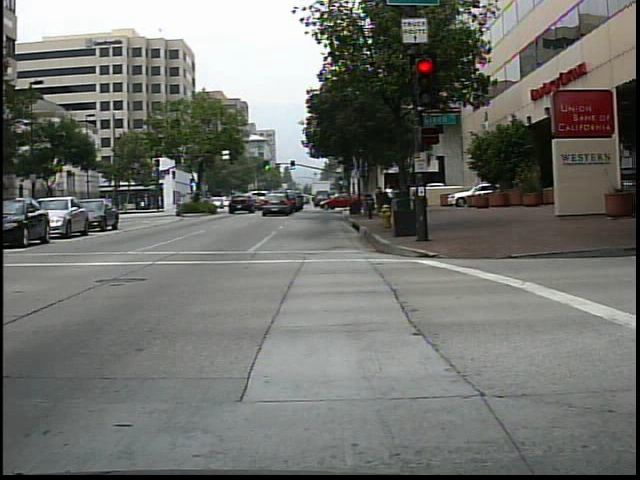person: (173, 196, 185, 214)
